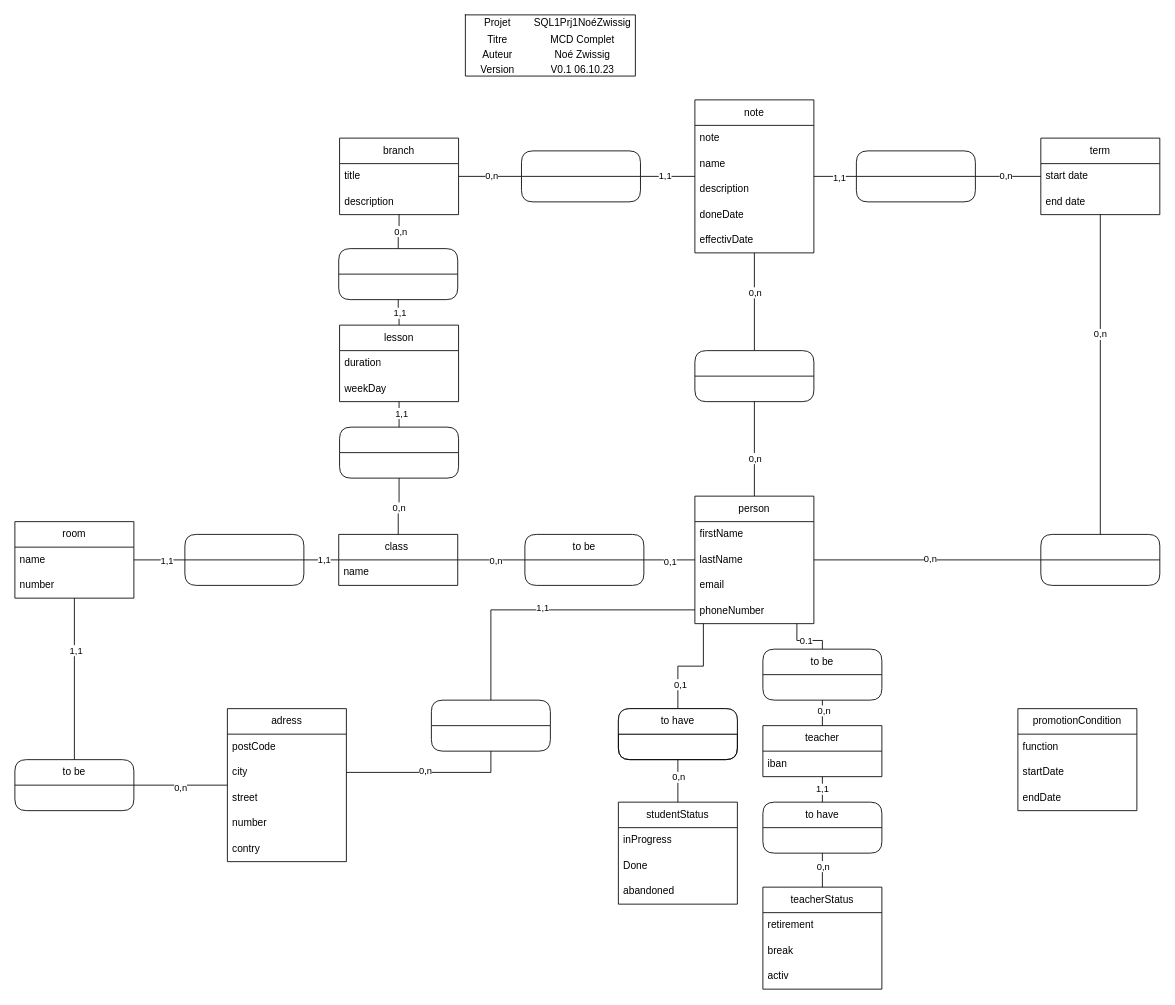
Some shapes in this 1175 by 1005 pixel diagram are drawn without their labels. The centre of each missing label's shape, as x and y in pixels:
"to be assigned" goes at [915,176].
"to concern" goes at [398,274].
"to give" goes at [399,452].
"to live" goes at [490,725].
"to obtain" goes at [754,376].
"to participate" goes at [1100,559].
"to study" goes at [244,559].
"to test" goes at [580,176].
